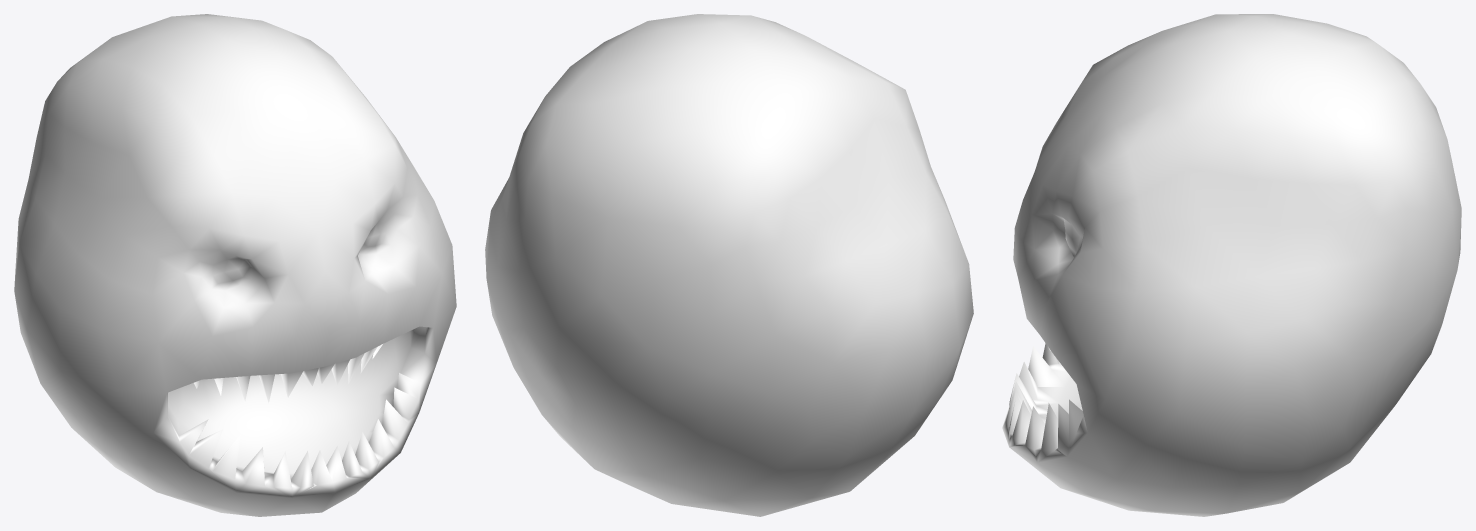
Rendered from FlyGuy.obj.
3 views of the same model, side by side, from view 1: azimuth 30°, elevation 25°; view 2: azimuth 150°, elevation 25°; view 3: azimuth 270°, elevation 25° (orthographic). The views are drawn at different scales.
Parts seen in each view (by area): view 1: FlyGuyLowPoly; view 2: FlyGuyLowPoly; view 3: FlyGuyLowPoly.
Part boxes in pixels (x1,y1,x2,y2): FlyGuyLowPoly: [14, 14, 456, 516]; FlyGuyLowPoly: [485, 14, 973, 516]; FlyGuyLowPoly: [1002, 14, 1461, 516].
Size of what is drawn, in the model's own units: 1.57 by 1.69 by 1.51.
